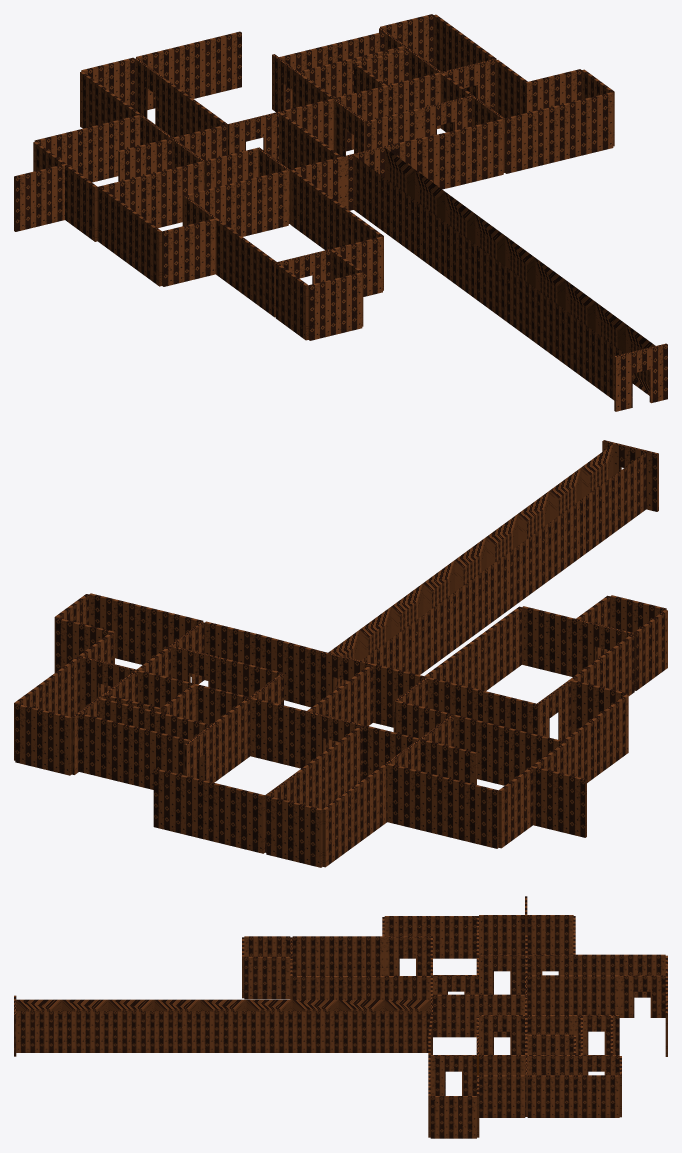
Rendered from WALLS (2).fbx.
3 renders of one model, top to bottom at view 1: azimuth 30°, elevation 25°; view 2: azimuth 150°, elevation 25°; view 3: azimuth 270°, elevation 25°, orthographic. The views are drawn at different scales.
Visible parts, largest first — view 1: Plane.057, Plane.056, Plane.040, Plane.041, Plane.072, Plane.042, Plane.060, Plane.016, Plane.054, Plane.030, Plane.058, Plane.020 (+52 smaller); view 2: Plane.057, Plane.056, Plane.021, Plane.002, Plane.032, Plane.012, Plane.016, Plane.020, Plane.009, Plane.013, Plane.070, Plane.030 (+54 smaller); view 3: Plane.056, Plane.057, Plane.073, Plane.033, Plane.036, Plane.037, Plane.039, Plane.062, Plane.064, Plane.006, Plane.008, Plane.022 (+24 smaller).
Part boxes in pixels (left/top/right/bottom): Plane.057: left=353, top=155, right=623, bottom=400; Plane.056: left=385, top=148, right=655, bottom=395; Plane.040: left=558, top=92, right=613, bottom=160; Plane.041: left=505, top=105, right=559, bottom=173; Plane.072: left=308, top=272, right=362, bottom=340; Plane.042: left=449, top=119, right=503, bottom=187; Plane.060: left=162, top=219, right=215, bottom=286; Plane.016: left=188, top=31, right=241, bottom=98; Plane.054: left=235, top=170, right=288, bottom=236; Plane.030: left=14, top=163, right=67, bottom=231; Plane.058: left=614, top=343, right=667, bottom=411; Plane.020: left=87, top=115, right=140, bottom=182; Plane.057: left=361, top=452, right=646, bottom=674; Plane.056: left=328, top=444, right=613, bottom=690; Plane.021: left=442, top=777, right=498, bottom=848; Plane.002: left=266, top=796, right=322, bottom=867; Plane.032: left=15, top=704, right=71, bottom=775; Plane.012: left=208, top=782, right=264, bottom=853; Plane.016: left=153, top=768, right=209, bottom=840; Plane.020: left=387, top=763, right=443, bottom=835; Plane.009: left=250, top=697, right=306, bottom=768; Plane.013: left=79, top=713, right=135, bottom=784; Plane.070: left=522, top=606, right=578, bottom=676; Plane.030: left=531, top=766, right=586, bottom=837; Plane.056: left=16, top=1011, right=430, bottom=1052; Plane.057: left=16, top=999, right=430, bottom=1011; Plane.073: left=244, top=956, right=290, bottom=999; Plane.033: left=573, top=1075, right=619, bottom=1117; Plane.036: left=527, top=1075, right=573, bottom=1117; Plane.037: left=479, top=1075, right=525, bottom=1117; Plane.039: left=430, top=1096, right=476, bottom=1138; Plane.062: left=433, top=994, right=478, bottom=1037; Plane.064: left=430, top=916, right=476, bottom=958; Plane.006: left=573, top=975, right=619, bottom=1014; Plane.008: left=527, top=975, right=573, bottom=1014; Plane.022: left=527, top=915, right=573, bottom=954.
Size of the model in its own units: 2060 by 200 by 2841.
